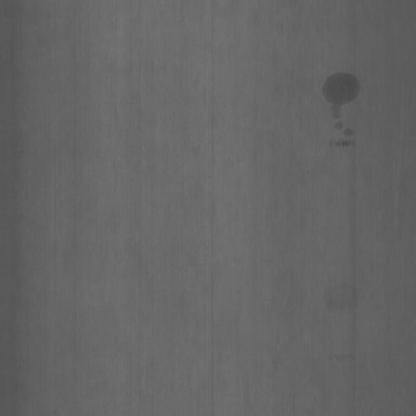oil_spot: (318, 60, 368, 146)
